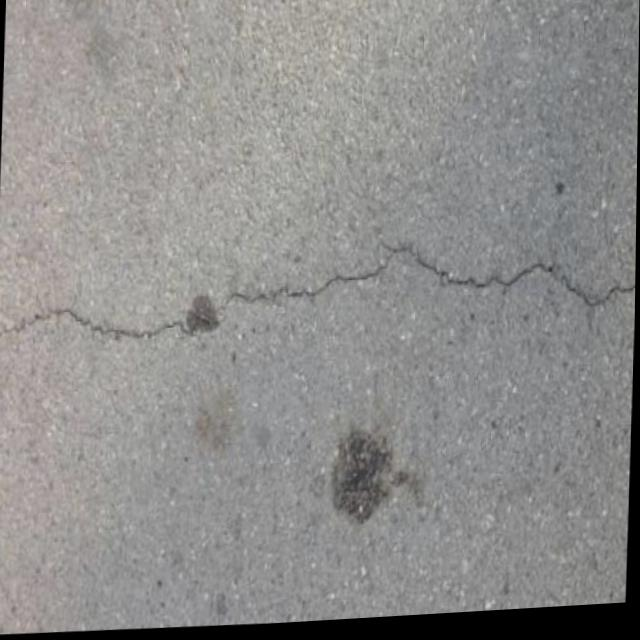Crack: (8, 209, 637, 383)
